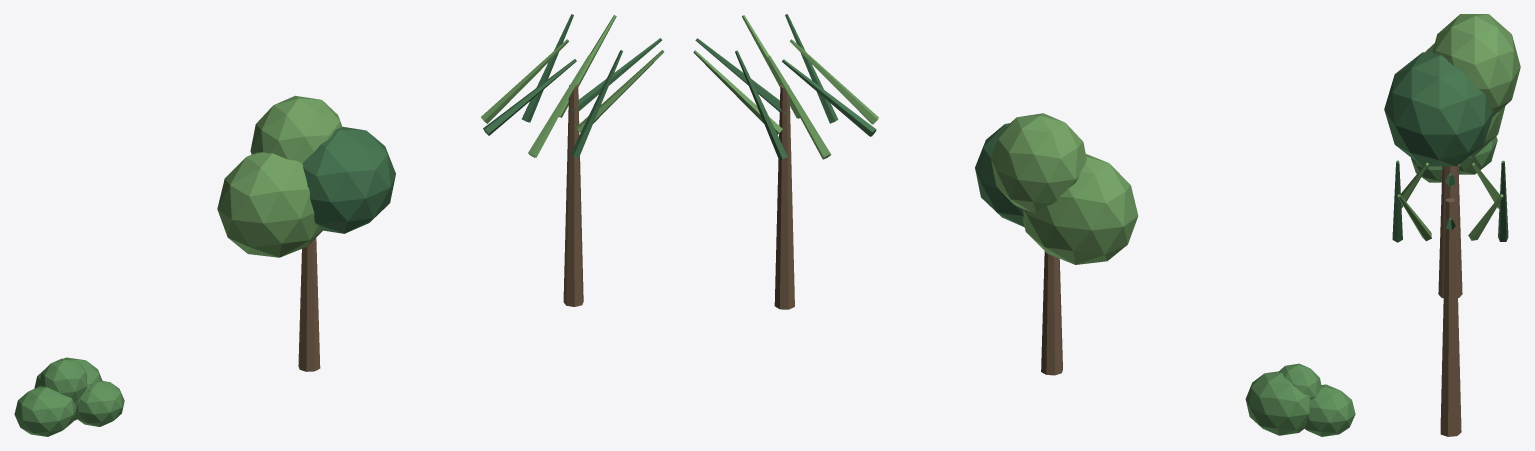
The model's file is visual-v2-landscape.glb.
3 renders of one model, left to right at view 1: azimuth 30°, elevation 25°; view 2: azimuth 150°, elevation 25°; view 3: azimuth 270°, elevation 25°, orthographic. The views are drawn at different scales.
Visible parts, largest first — view 1: V2_TREE_CROWN_1, V2_TREE_CROWN_2, V2_TREE_CROWN_3, V2_PALM_TRUNK, V2_TREE_TRUNK, V2_SHRUB_CROWN_1, V2_SHRUB_CROWN_3, V2_SHRUB_CROWN_4, V2_PALM_FROND_6, V2_PALM_FROND_5, V2_PALM_FROND_4, V2_PALM_FROND_7 (+3 smaller); view 2: V2_TREE_CROWN_1, V2_TREE_CROWN_3, V2_PALM_TRUNK, V2_SHRUB_CROWN_2, V2_TREE_TRUNK, V2_SHRUB_CROWN_1, V2_TREE_CROWN_2, V2_SHRUB_CROWN_4, V2_PALM_FROND_4, V2_PALM_FROND_5, V2_PALM_FROND_6, V2_PALM_FROND_3 (+3 smaller); view 3: V2_TREE_CROWN_2, V2_TREE_CROWN_3, V2_PALM_TRUNK, V2_TREE_TRUNK, V2_SHRUB_CROWN_2, V2_PALM_FROND_3, V2_PALM_FROND_7, V2_TREE_CROWN_1, V2_SHRUB_CROWN_3, V2_PALM_FROND_8, V2_PALM_FROND_2, V2_PALM_FROND_6 (+1 smaller).
Boxes of the visible parts, x1=… form: V2_TREE_CROWN_1: x1=217, y1=152, x2=322, y2=257; V2_TREE_CROWN_2: x1=302, y1=126, x2=395, y2=233; V2_TREE_CROWN_3: x1=250, y1=95, x2=342, y2=163; V2_PALM_TRUNK: x1=563, y1=84, x2=583, y2=306; V2_TREE_TRUNK: x1=298, y1=238, x2=320, y2=371; V2_SHRUB_CROWN_1: x1=14, y1=386, x2=76, y2=436; V2_SHRUB_CROWN_3: x1=75, y1=380, x2=124, y2=426; V2_SHRUB_CROWN_4: x1=39, y1=358, x2=87, y2=402; V2_PALM_FROND_6: x1=528, y1=55, x2=590, y2=157; V2_PALM_FROND_5: x1=483, y1=59, x2=576, y2=135; V2_PALM_FROND_4: x1=481, y1=39, x2=568, y2=123; V2_PALM_FROND_7: x1=570, y1=50, x2=622, y2=158; V2_TREE_CROWN_1: x1=1023, y1=154, x2=1138, y2=264; V2_TREE_CROWN_3: x1=991, y1=113, x2=1086, y2=212; V2_PALM_TRUNK: x1=774, y1=85, x2=794, y2=309; V2_SHRUB_CROWN_2: x1=1245, y1=371, x2=1311, y2=435; V2_TREE_TRUNK: x1=1041, y1=251, x2=1062, y2=375; V2_SHRUB_CROWN_1: x1=1304, y1=384, x2=1355, y2=436; V2_TREE_CROWN_2: x1=975, y1=123, x2=1024, y2=227; V2_SHRUB_CROWN_4: x1=1279, y1=363, x2=1321, y2=399; V2_PALM_FROND_4: x1=767, y1=55, x2=831, y2=159; V2_PALM_FROND_5: x1=782, y1=59, x2=876, y2=136; V2_PALM_FROND_6: x1=790, y1=39, x2=878, y2=124; V2_PALM_FROND_3: x1=735, y1=50, x2=787, y2=159; V2_TREE_CROWN_2: x1=1384, y1=52, x2=1493, y2=166; V2_TREE_CROWN_3: x1=1432, y1=14, x2=1520, y2=116; V2_PALM_TRUNK: x1=1440, y1=198, x2=1461, y2=436; V2_TREE_TRUNK: x1=1438, y1=165, x2=1462, y2=298; V2_SHRUB_CROWN_2: x1=1459, y1=136, x2=1497, y2=174; V2_PALM_FROND_3: x1=1498, y1=160, x2=1508, y2=241; V2_PALM_FROND_7: x1=1392, y1=160, x2=1402, y2=242; V2_TREE_CROWN_1: x1=1425, y1=43, x2=1505, y2=157; V2_SHRUB_CROWN_3: x1=1411, y1=158, x2=1460, y2=182; V2_PALM_FROND_8: x1=1397, y1=194, x2=1431, y2=241; V2_PALM_FROND_2: x1=1468, y1=194, x2=1503, y2=240; V2_PALM_FROND_6: x1=1401, y1=162, x2=1428, y2=207.
Size of the model in its own units: 15.88 by 6.22 by 2.72.
